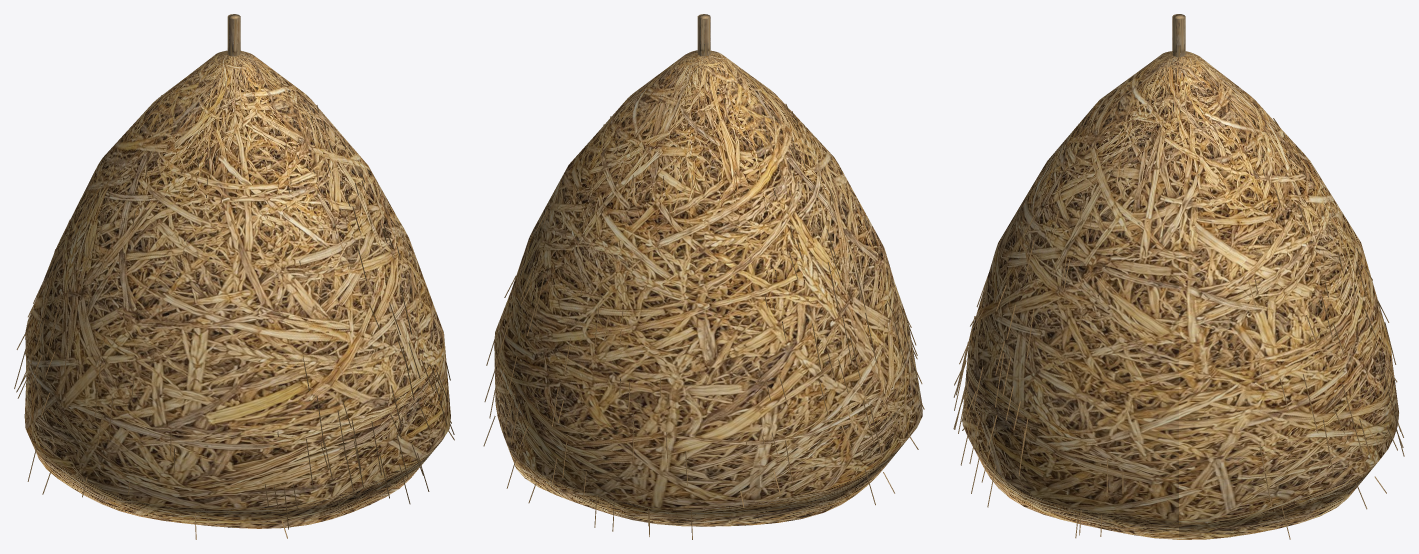
Rendered from prop_haystack.glb.
3 renders of one model, left to right at view 1: azimuth 30°, elevation 25°; view 2: azimuth 150°, elevation 25°; view 3: azimuth 270°, elevation 25°, orthographic. The views are drawn at different scales.
Visible parts, largest first — view 1: prop_haystack; view 2: prop_haystack; view 3: prop_haystack.
Boxes of the visible parts, bbox=[...] form: prop_haystack: bbox=[14, 14, 454, 539]; prop_haystack: bbox=[483, 14, 924, 539]; prop_haystack: bbox=[953, 14, 1404, 539].
Size of the model in its own units: 2.31 by 2.5 by 2.32.
Materials: 2 (2 with a texture image).
